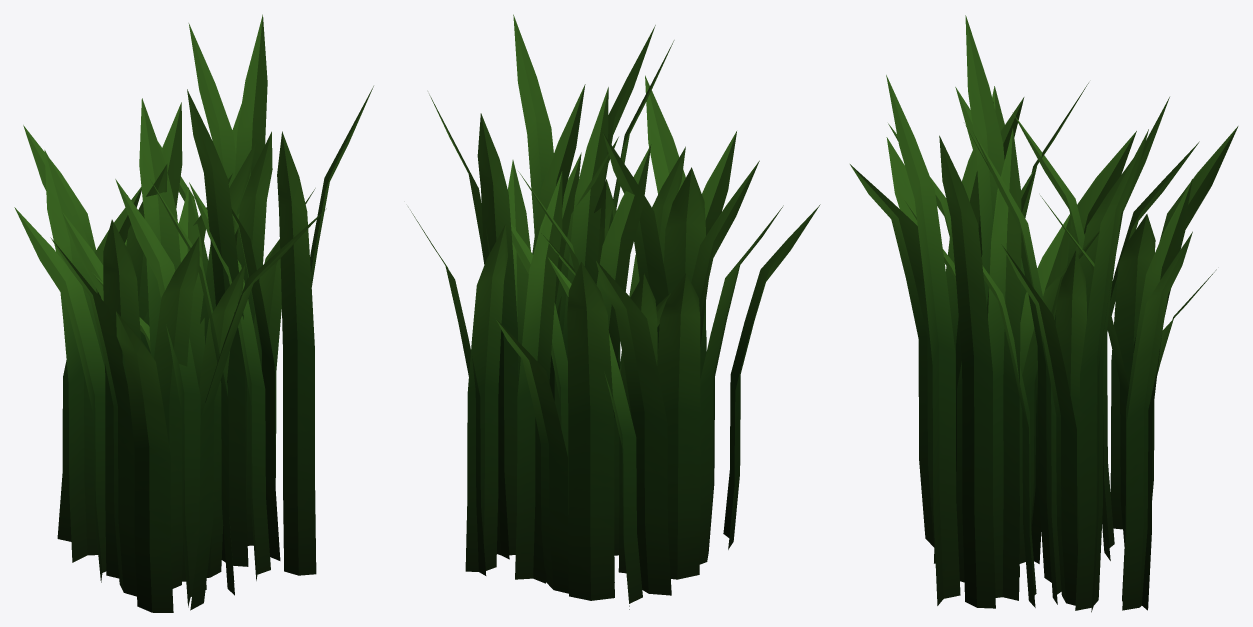
File: Tall_Grass_1.fbx
3 views of the same model, side by side, from view 1: azimuth 30°, elevation 25°; view 2: azimuth 150°, elevation 25°; view 3: azimuth 270°, elevation 25° (orthographic). The views are drawn at different scales.
Visible parts, largest first — view 1: Tall_Grass_1; view 2: Tall_Grass_1; view 3: Tall_Grass_1.
Part boxes in pixels (x1,y1,x2,y2): Tall_Grass_1: [14, 14, 373, 612]; Tall_Grass_1: [408, 14, 820, 609]; Tall_Grass_1: [850, 15, 1238, 612].
Bounding box in the file's own units: 165 × 266 × 176.
